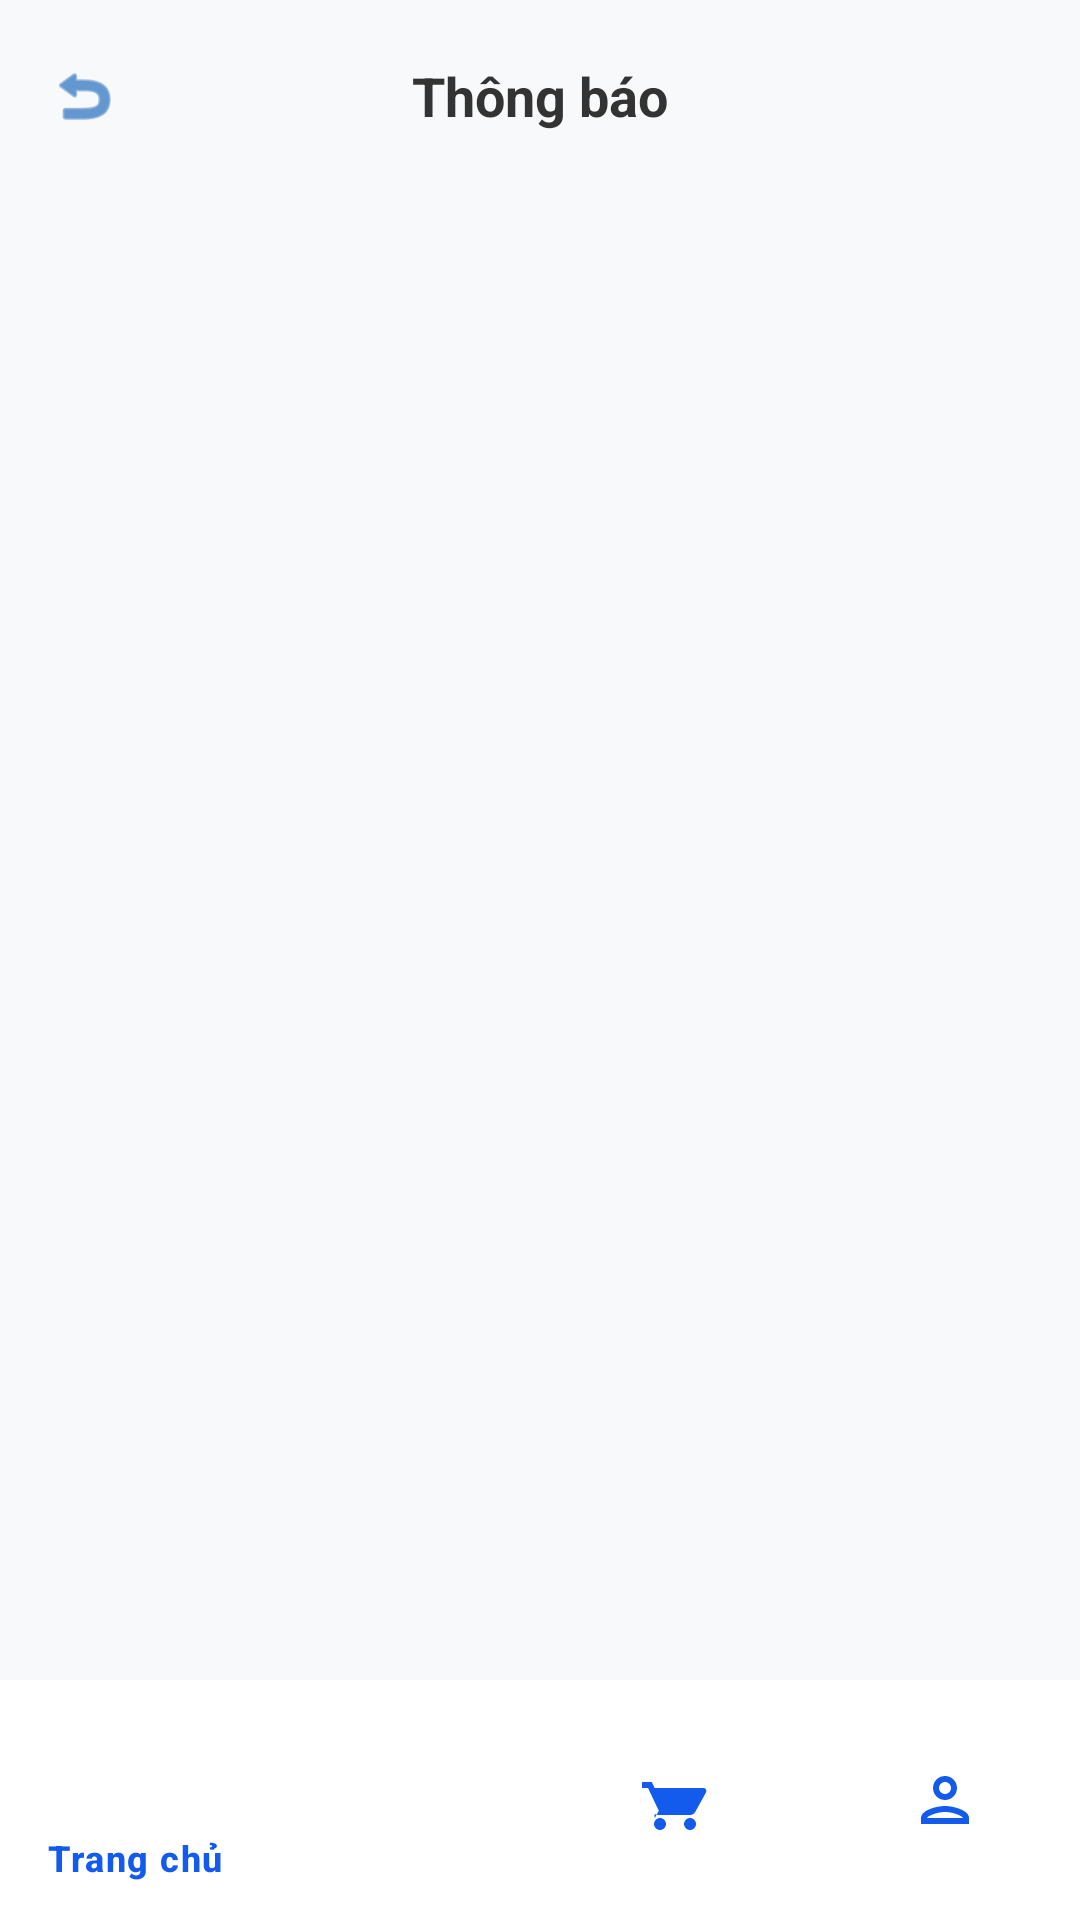

Locate icon controls on the screen. Image size 1080w x 1920h, boxes as (x1, y1, x2, y2).
revert: (59, 73, 111, 120)
